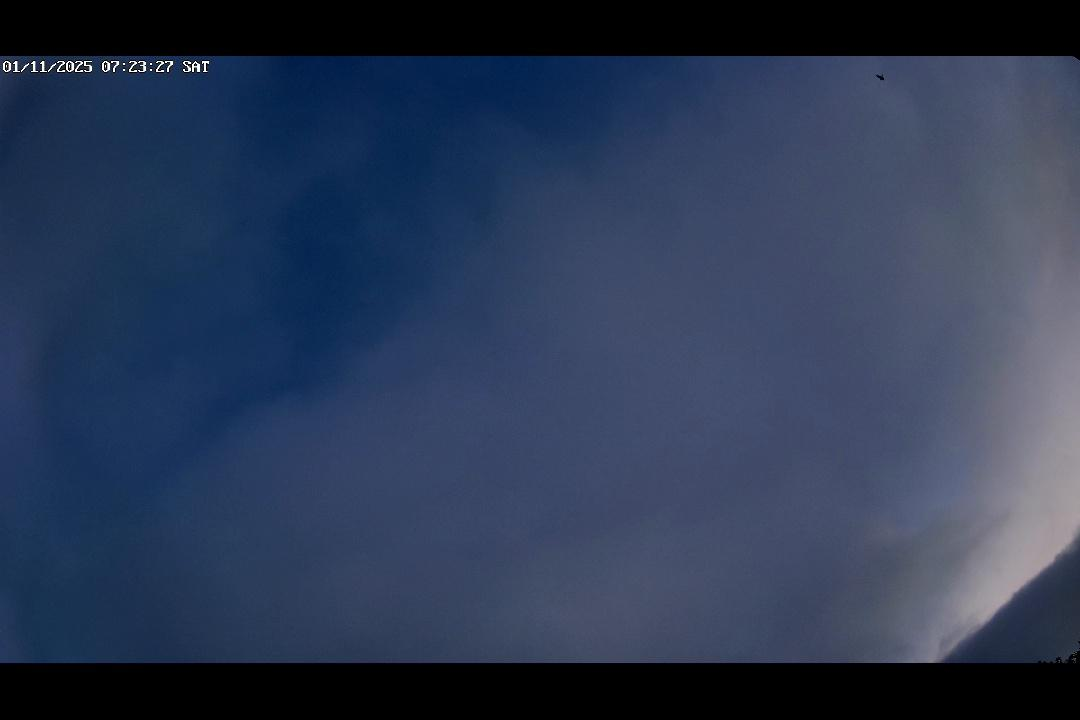WildLife: (862, 68, 899, 86)
